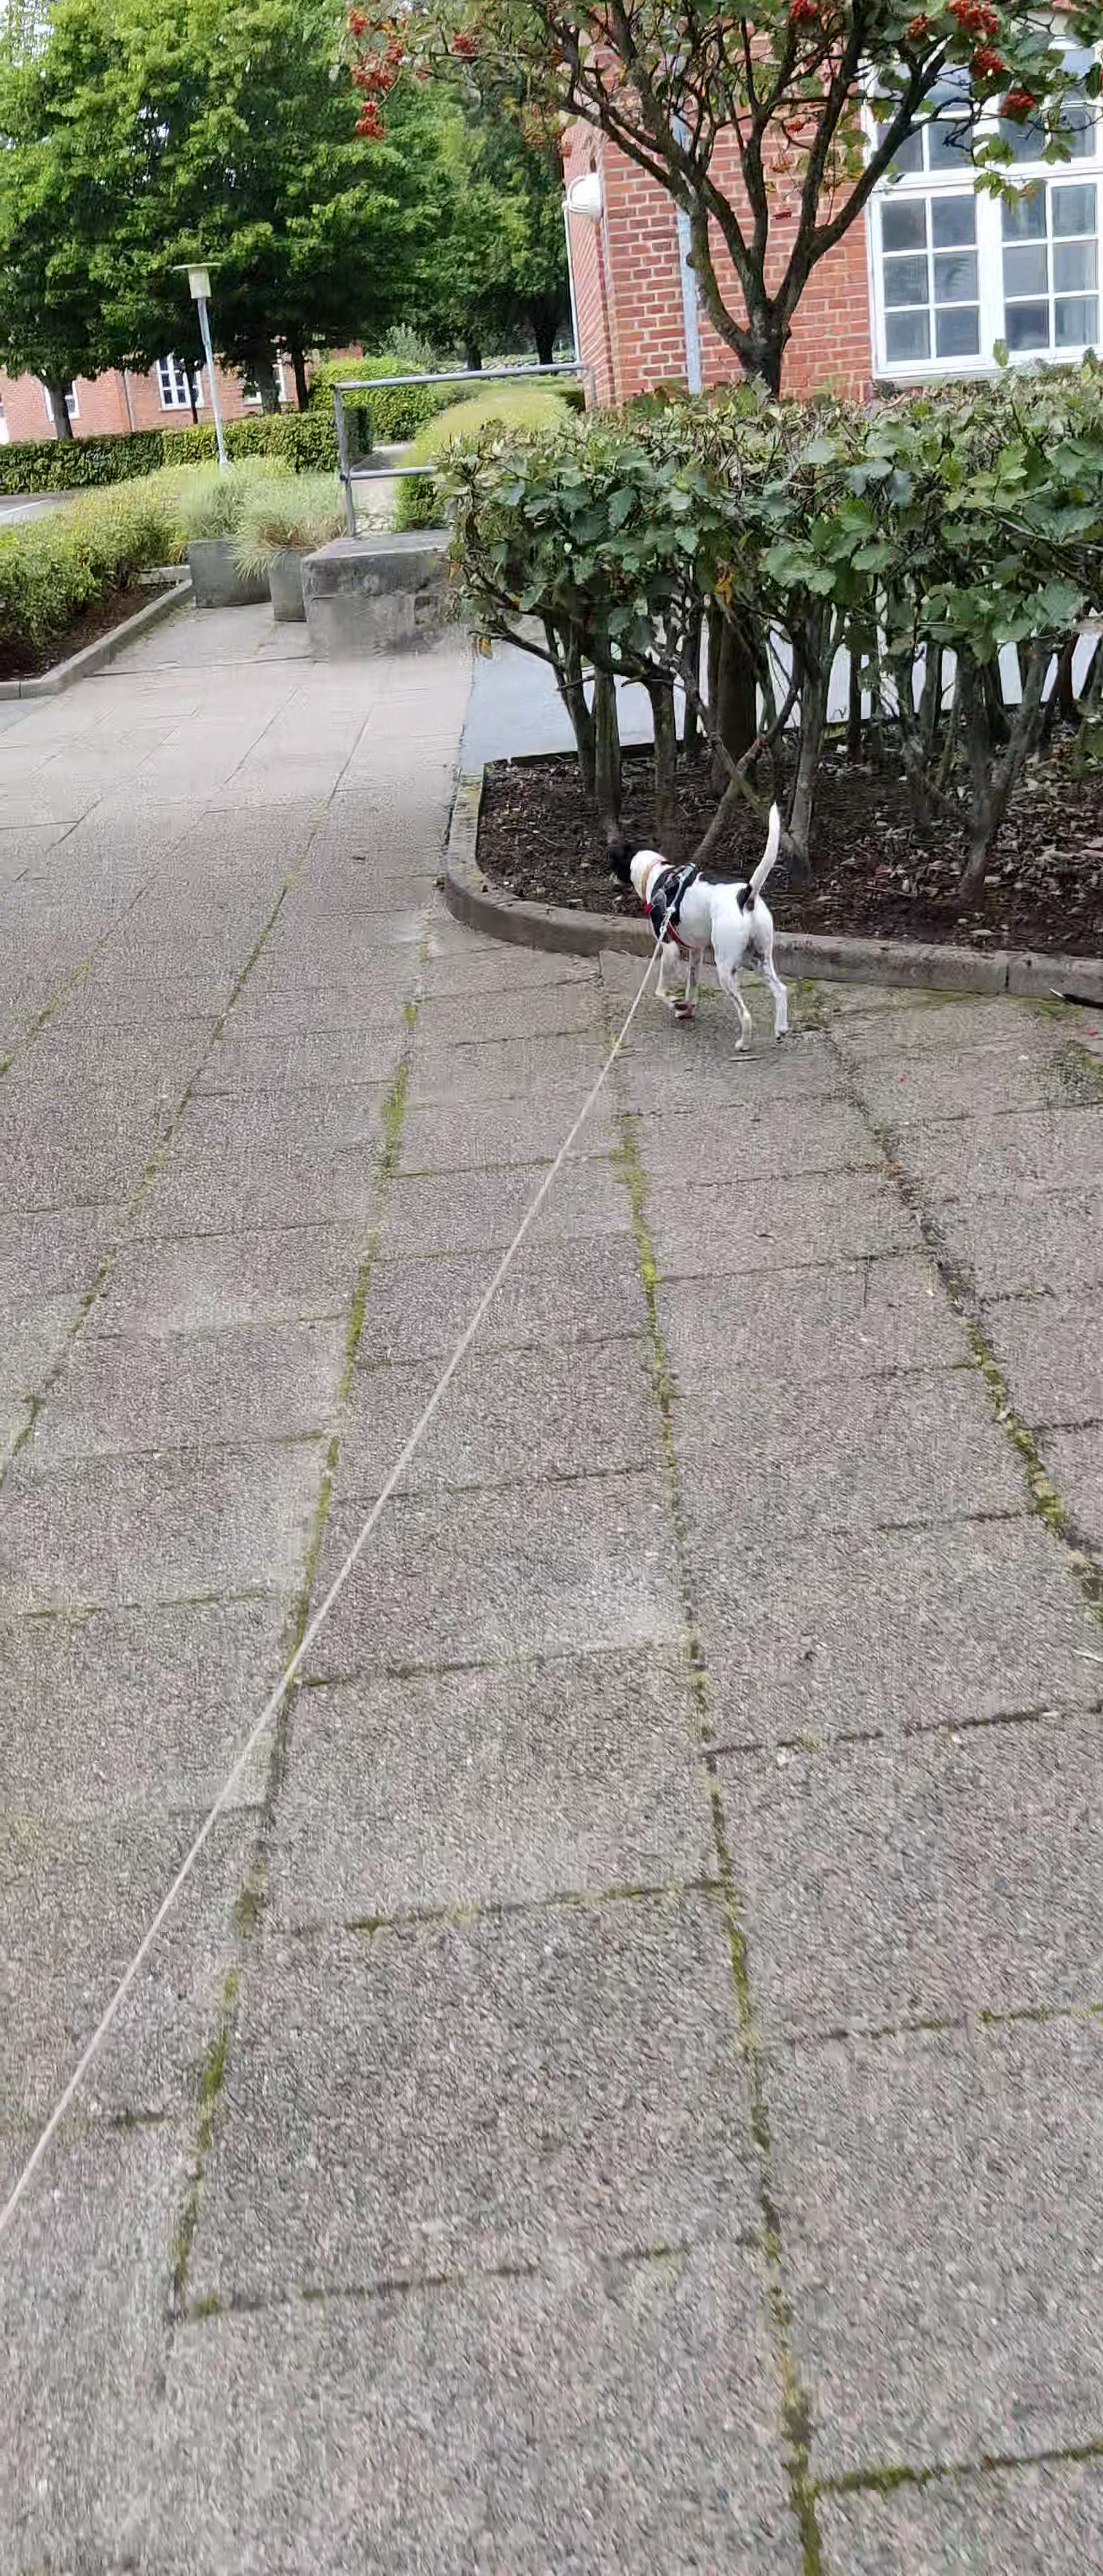Dog: (602, 795, 801, 1055)
